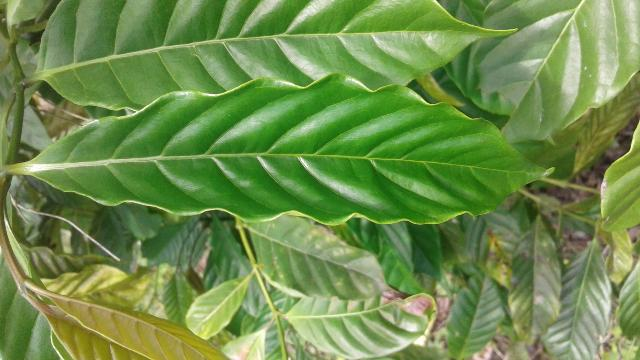healthy: (25, 72, 568, 229)
